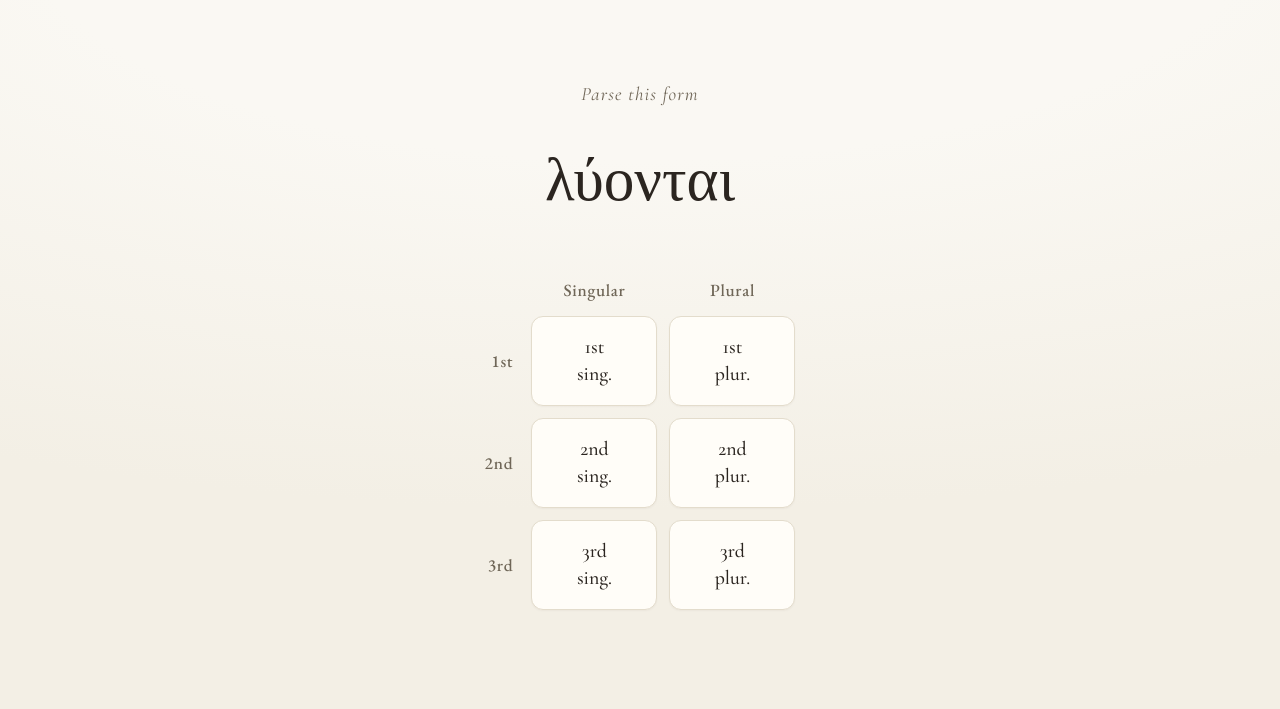
PersonNumberParseGame › logs the cell picked and the cell wanted when the answer is wrong
The image size is (1280, 709).
Click the 1st button with class "cell".
click(594, 361)  # box [532,316,658,406]
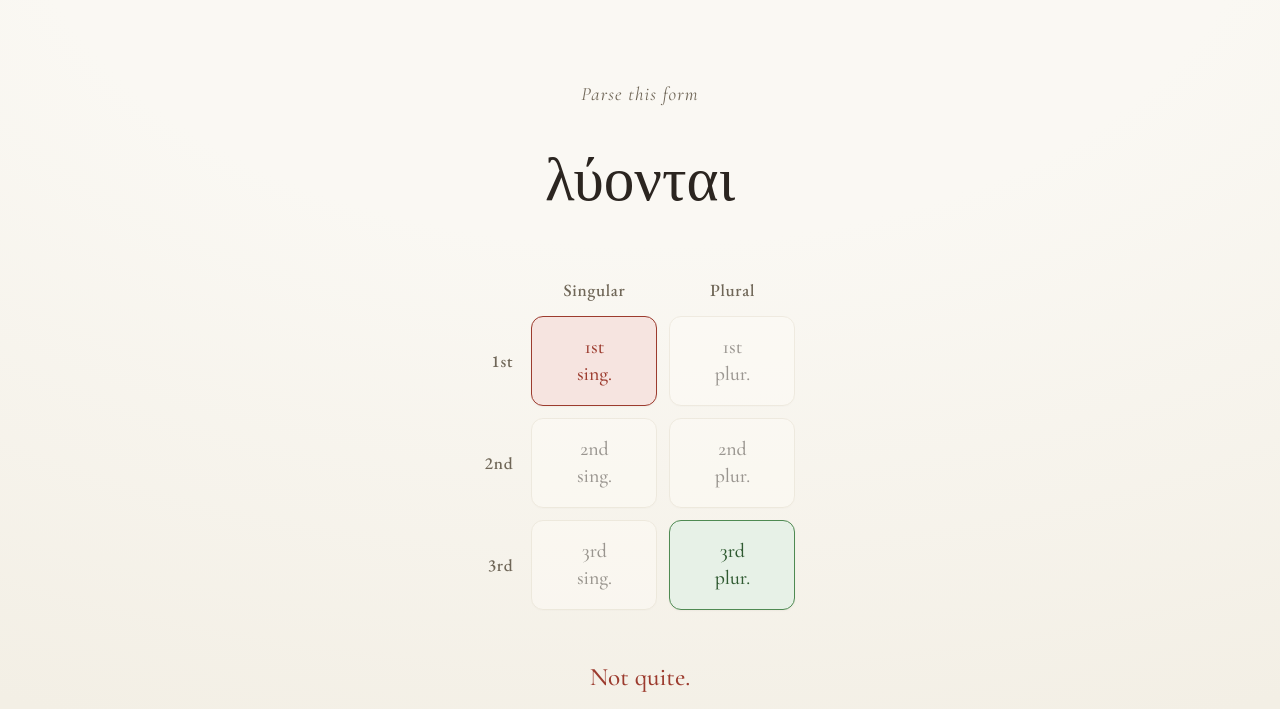
Expected: the text with class "luo__verdict" reads "Not quite.", [590,662,690,692]
